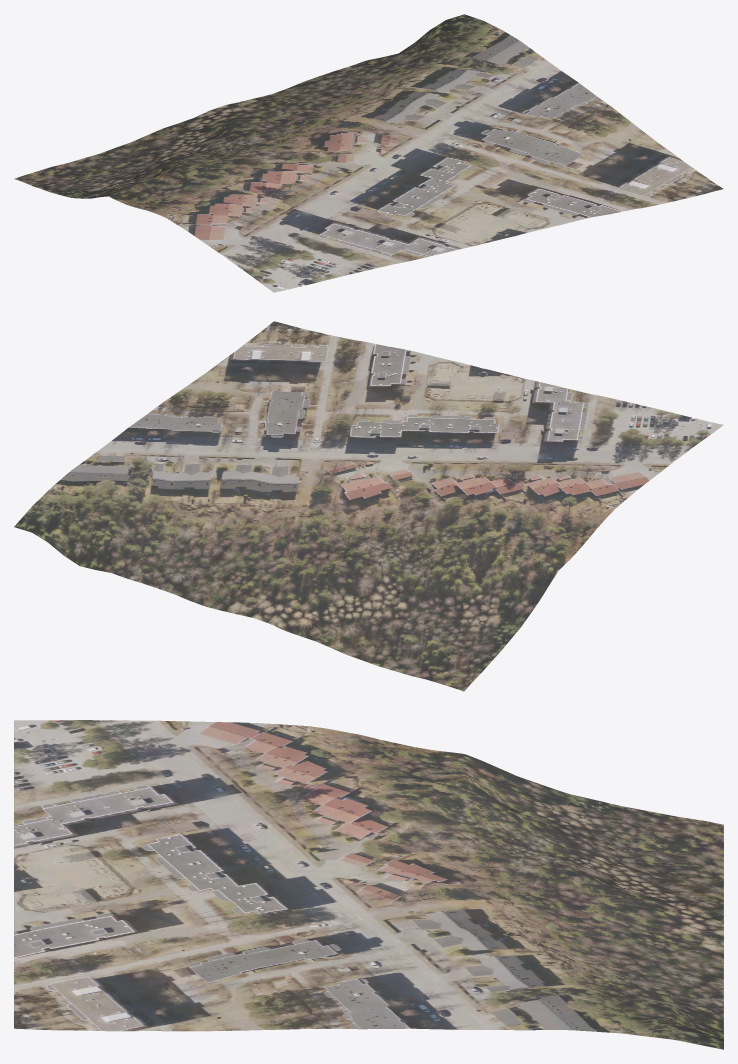
Rendered from CM_Terrain_24491278_6816312.fbx.
The picture shows the model from 3 angles, top to bottom: view 1: azimuth 30°, elevation 25°; view 2: azimuth 150°, elevation 25°; view 3: azimuth 270°, elevation 25°; orthographic projection. The views are drawn at different scales.
Visible parts, largest first — view 1: CM_Terrain_24491278_6816312_LOD0; view 2: CM_Terrain_24491278_6816312_LOD0; view 3: CM_Terrain_24491278_6816312_LOD0.
Part boxes in pixels (<box>): CM_Terrain_24491278_6816312_LOD0: <box>14,14,723,292</box>; CM_Terrain_24491278_6816312_LOD0: <box>14,321,723,691</box>; CM_Terrain_24491278_6816312_LOD0: <box>14,720,723,1049</box>.
Size of what is drawn, in the model's own units: 205 by 33.32 by 205.
